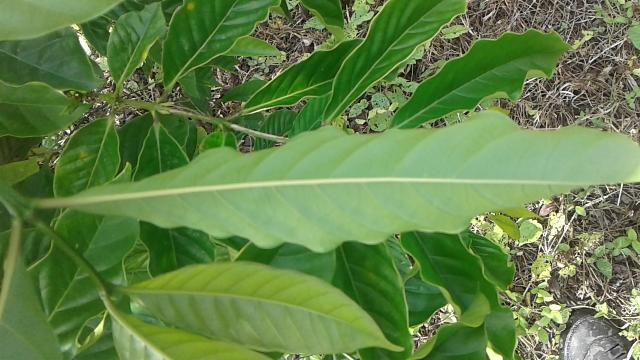healthy: (68, 106, 640, 254)
